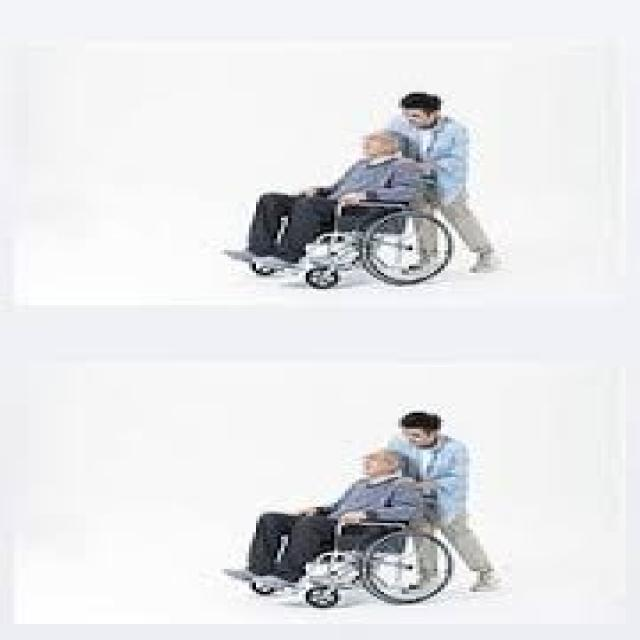wheelchairs: (246, 158, 452, 289), (242, 496, 452, 594)
